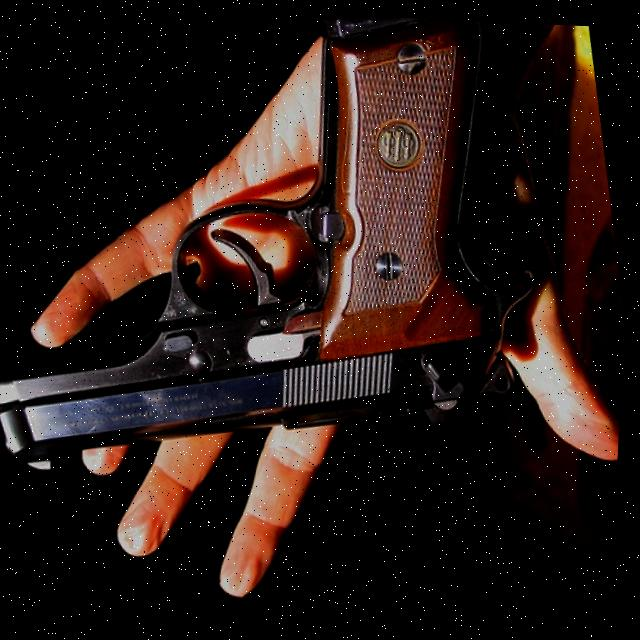pistol: (0, 0, 573, 494)
